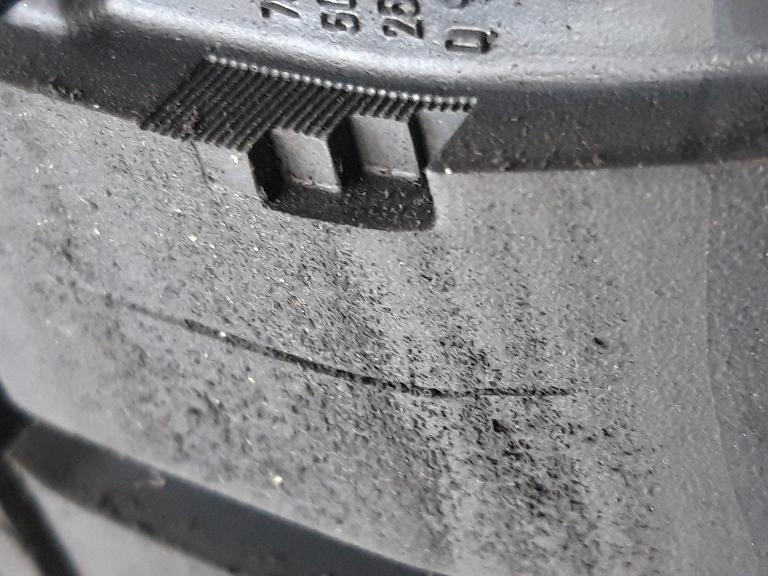temoin:75: (183, 63, 491, 252)
